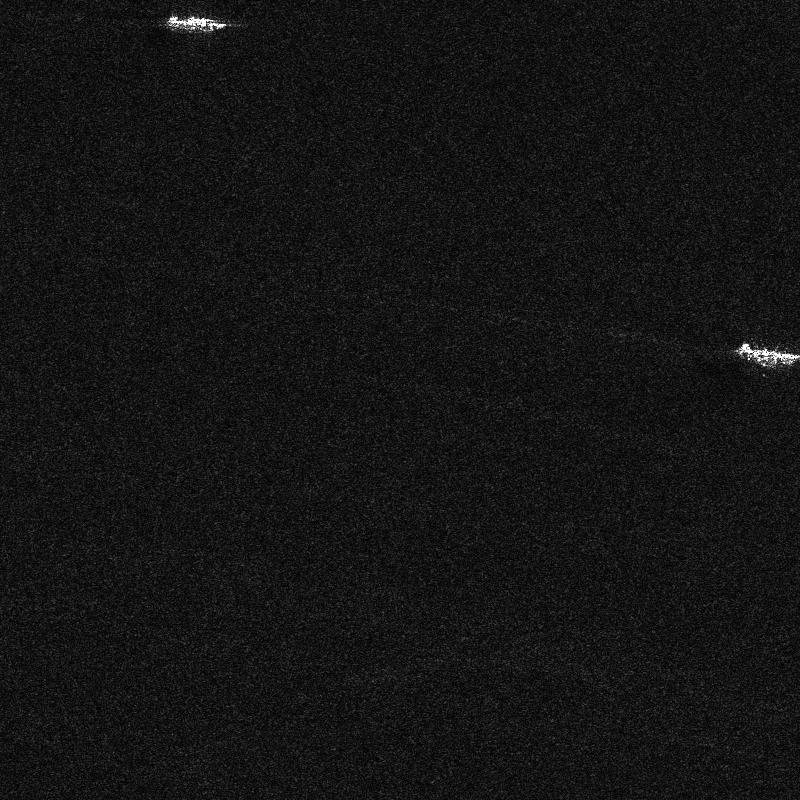ship: (736, 342, 799, 366), (166, 16, 225, 30)
